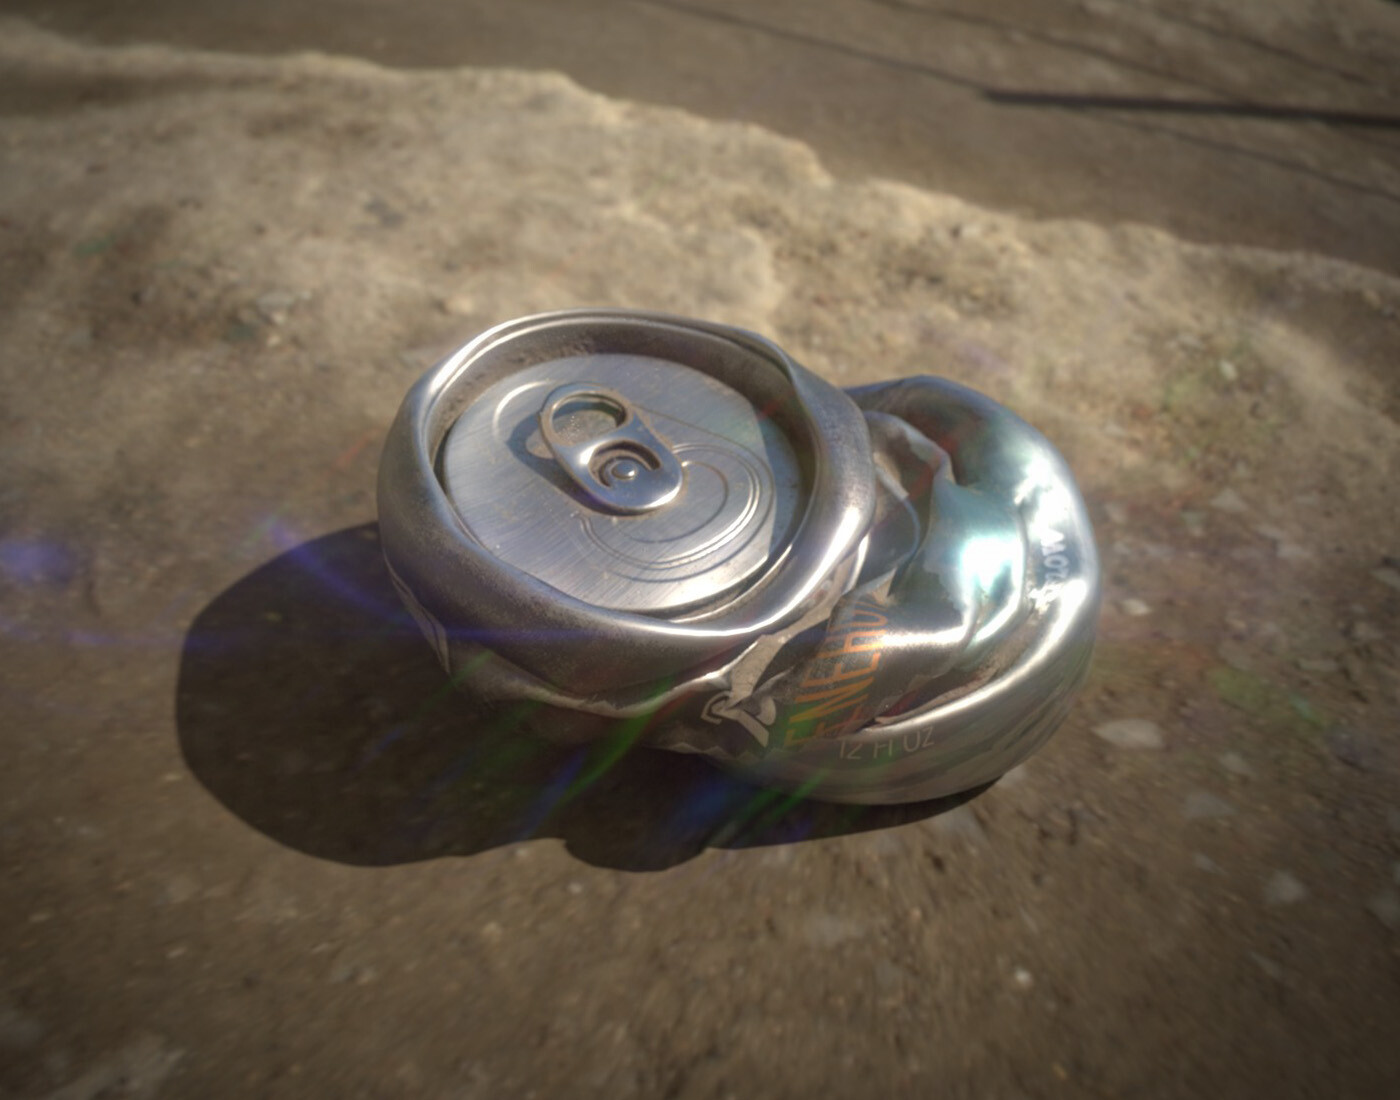can: (370, 307, 1105, 806)
